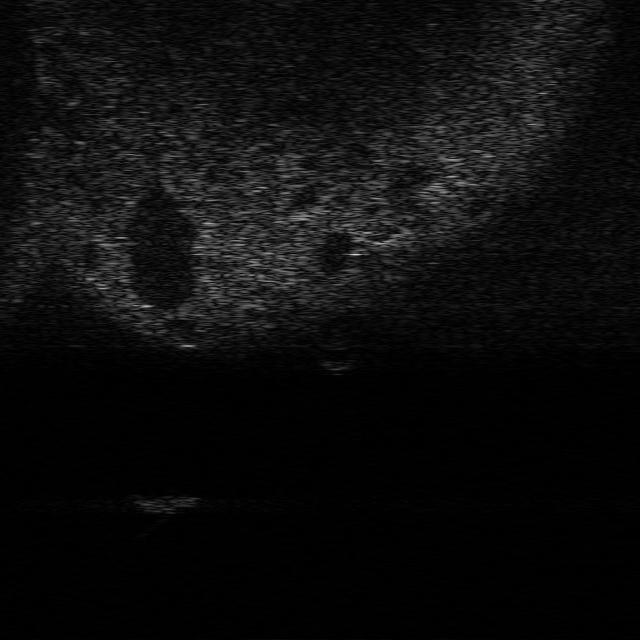ball: (311, 338, 360, 376)
cube: (128, 489, 202, 515)
